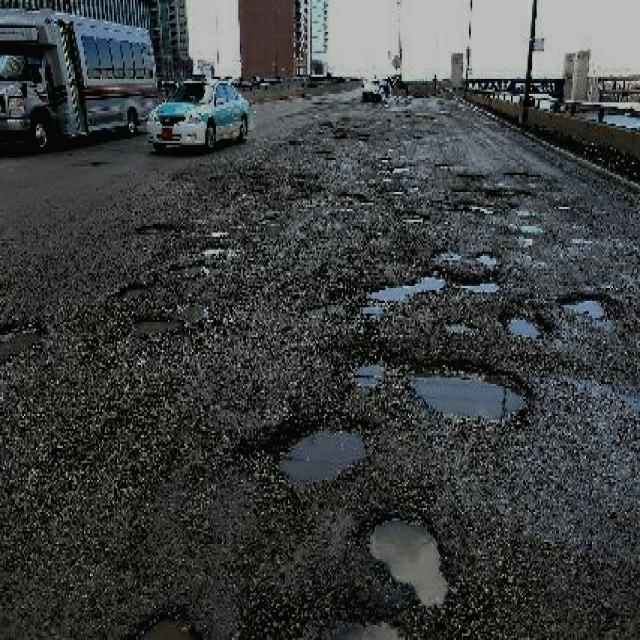Pothole: (403, 352, 535, 427), (364, 508, 453, 608), (271, 414, 375, 489), (366, 269, 450, 303), (133, 599, 205, 638), (1, 316, 45, 363), (501, 303, 552, 339), (556, 288, 612, 320), (127, 311, 184, 333), (454, 273, 504, 297), (474, 247, 502, 267)
